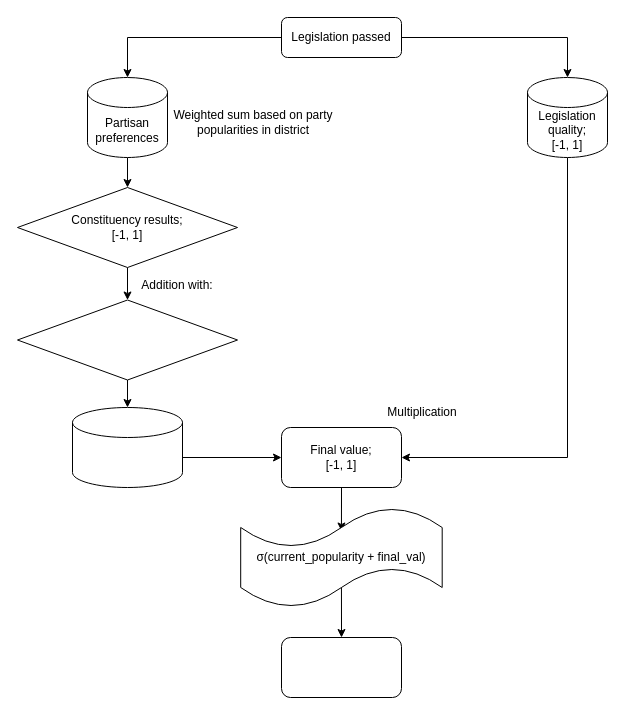
Image size: 625x715. Some labels were removed from this diagram. The shapes that lost their labels are listed below. From the top down, each one's centre as x and y in pixels, then its label:
the point at 127,339: Party boss results; [-0.25, 0.5]
the point at 127,447: Renormalize by floor & ceil
the point at 341,667: Updated popularity
